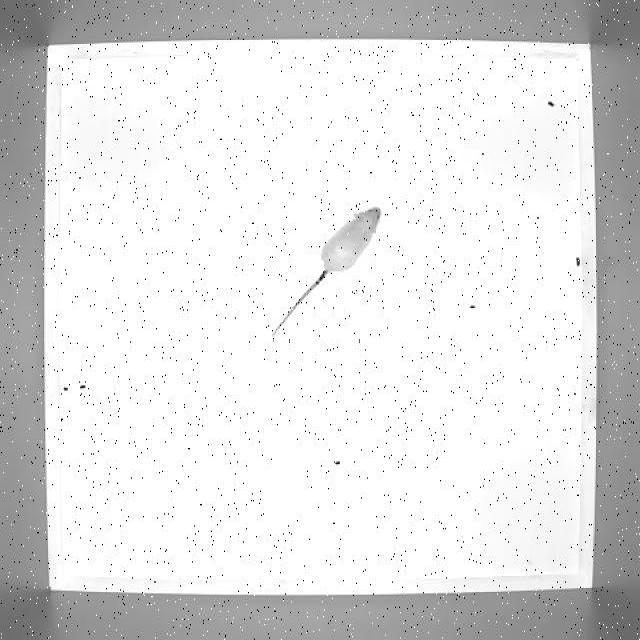rat: (271, 198, 403, 342)
